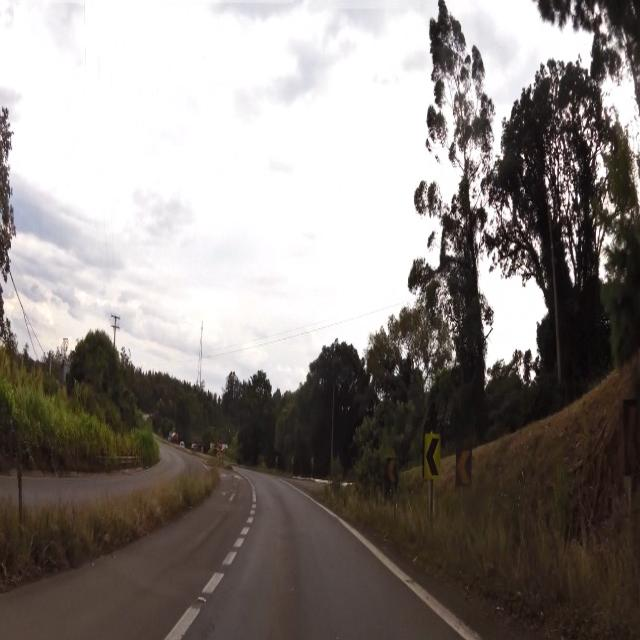Del: (454, 441, 472, 494), (424, 429, 442, 481)
